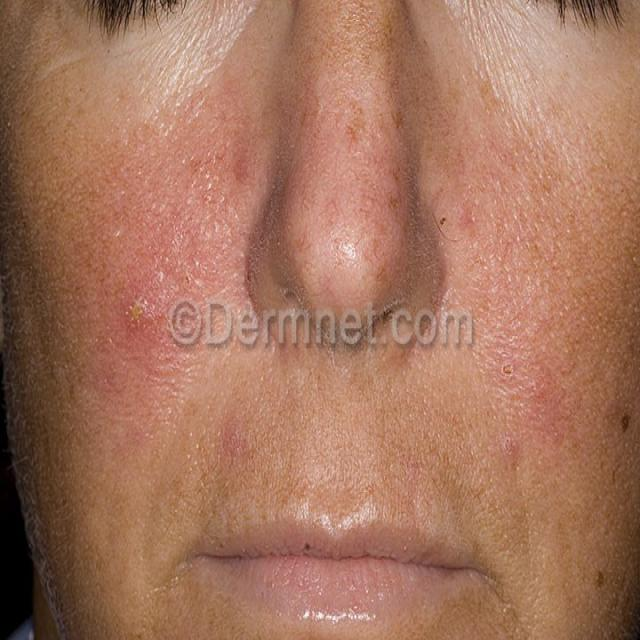Dry-Skin: (442, 0, 594, 184), (479, 423, 587, 632), (103, 0, 274, 129), (135, 412, 204, 625)
